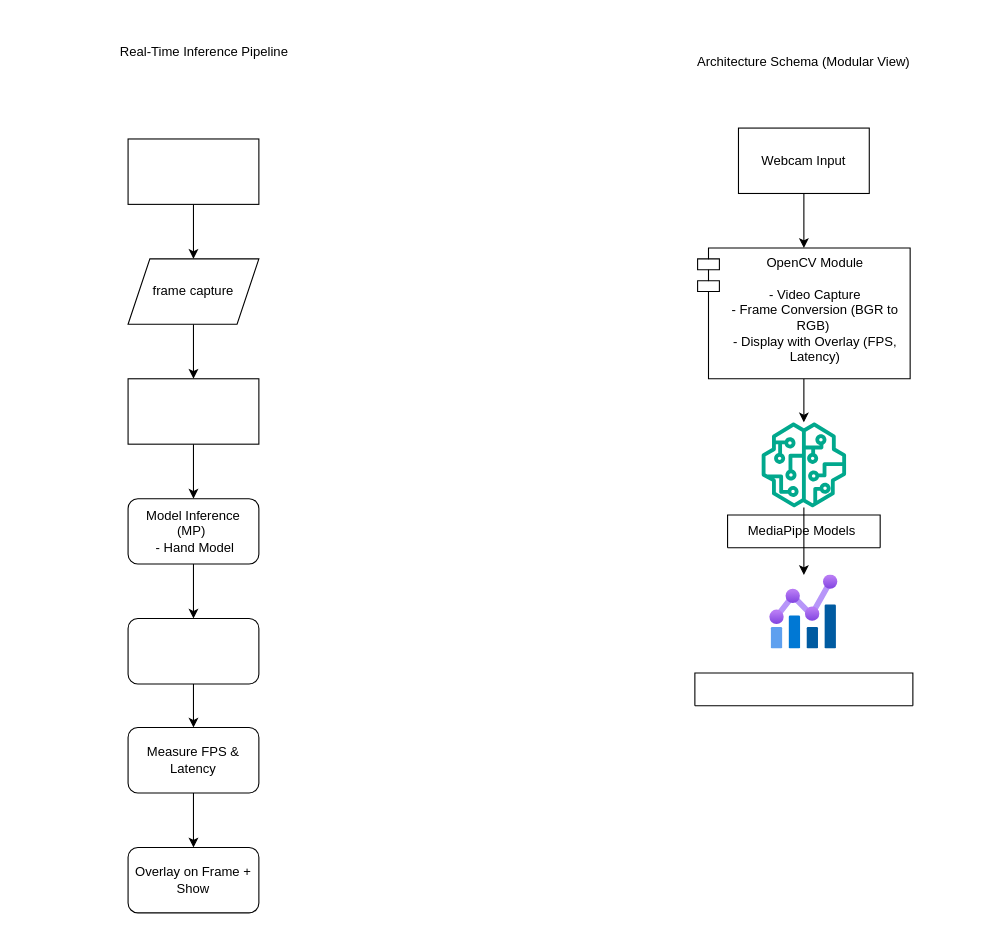
This 1007x932 diagram has some shape labels left out. Here are the shapes that lost their labels. From the top down, the box of each, then its label:
(127, 138, 259, 204): Camera feed
(127, 378, 259, 444): convert BGR -> RGB
(127, 617, 259, 684): Extract & Draw Landmarks
(694, 672, 913, 706): Performance Monitor / Logger
